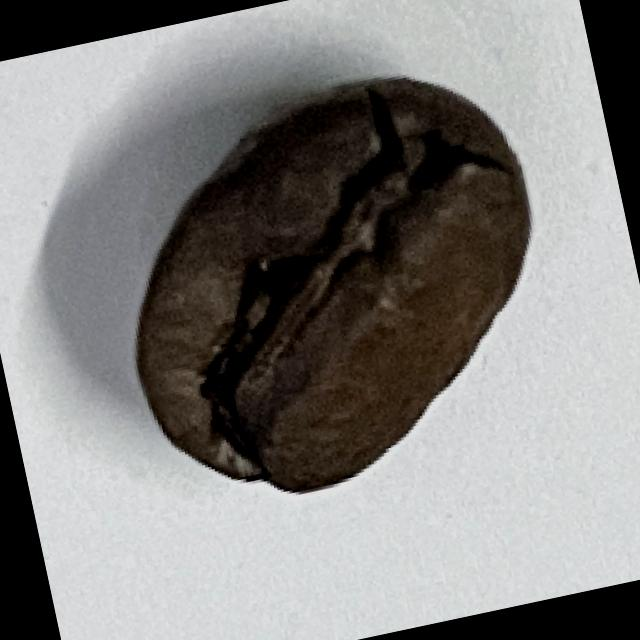bean: (83, 46, 582, 522)
